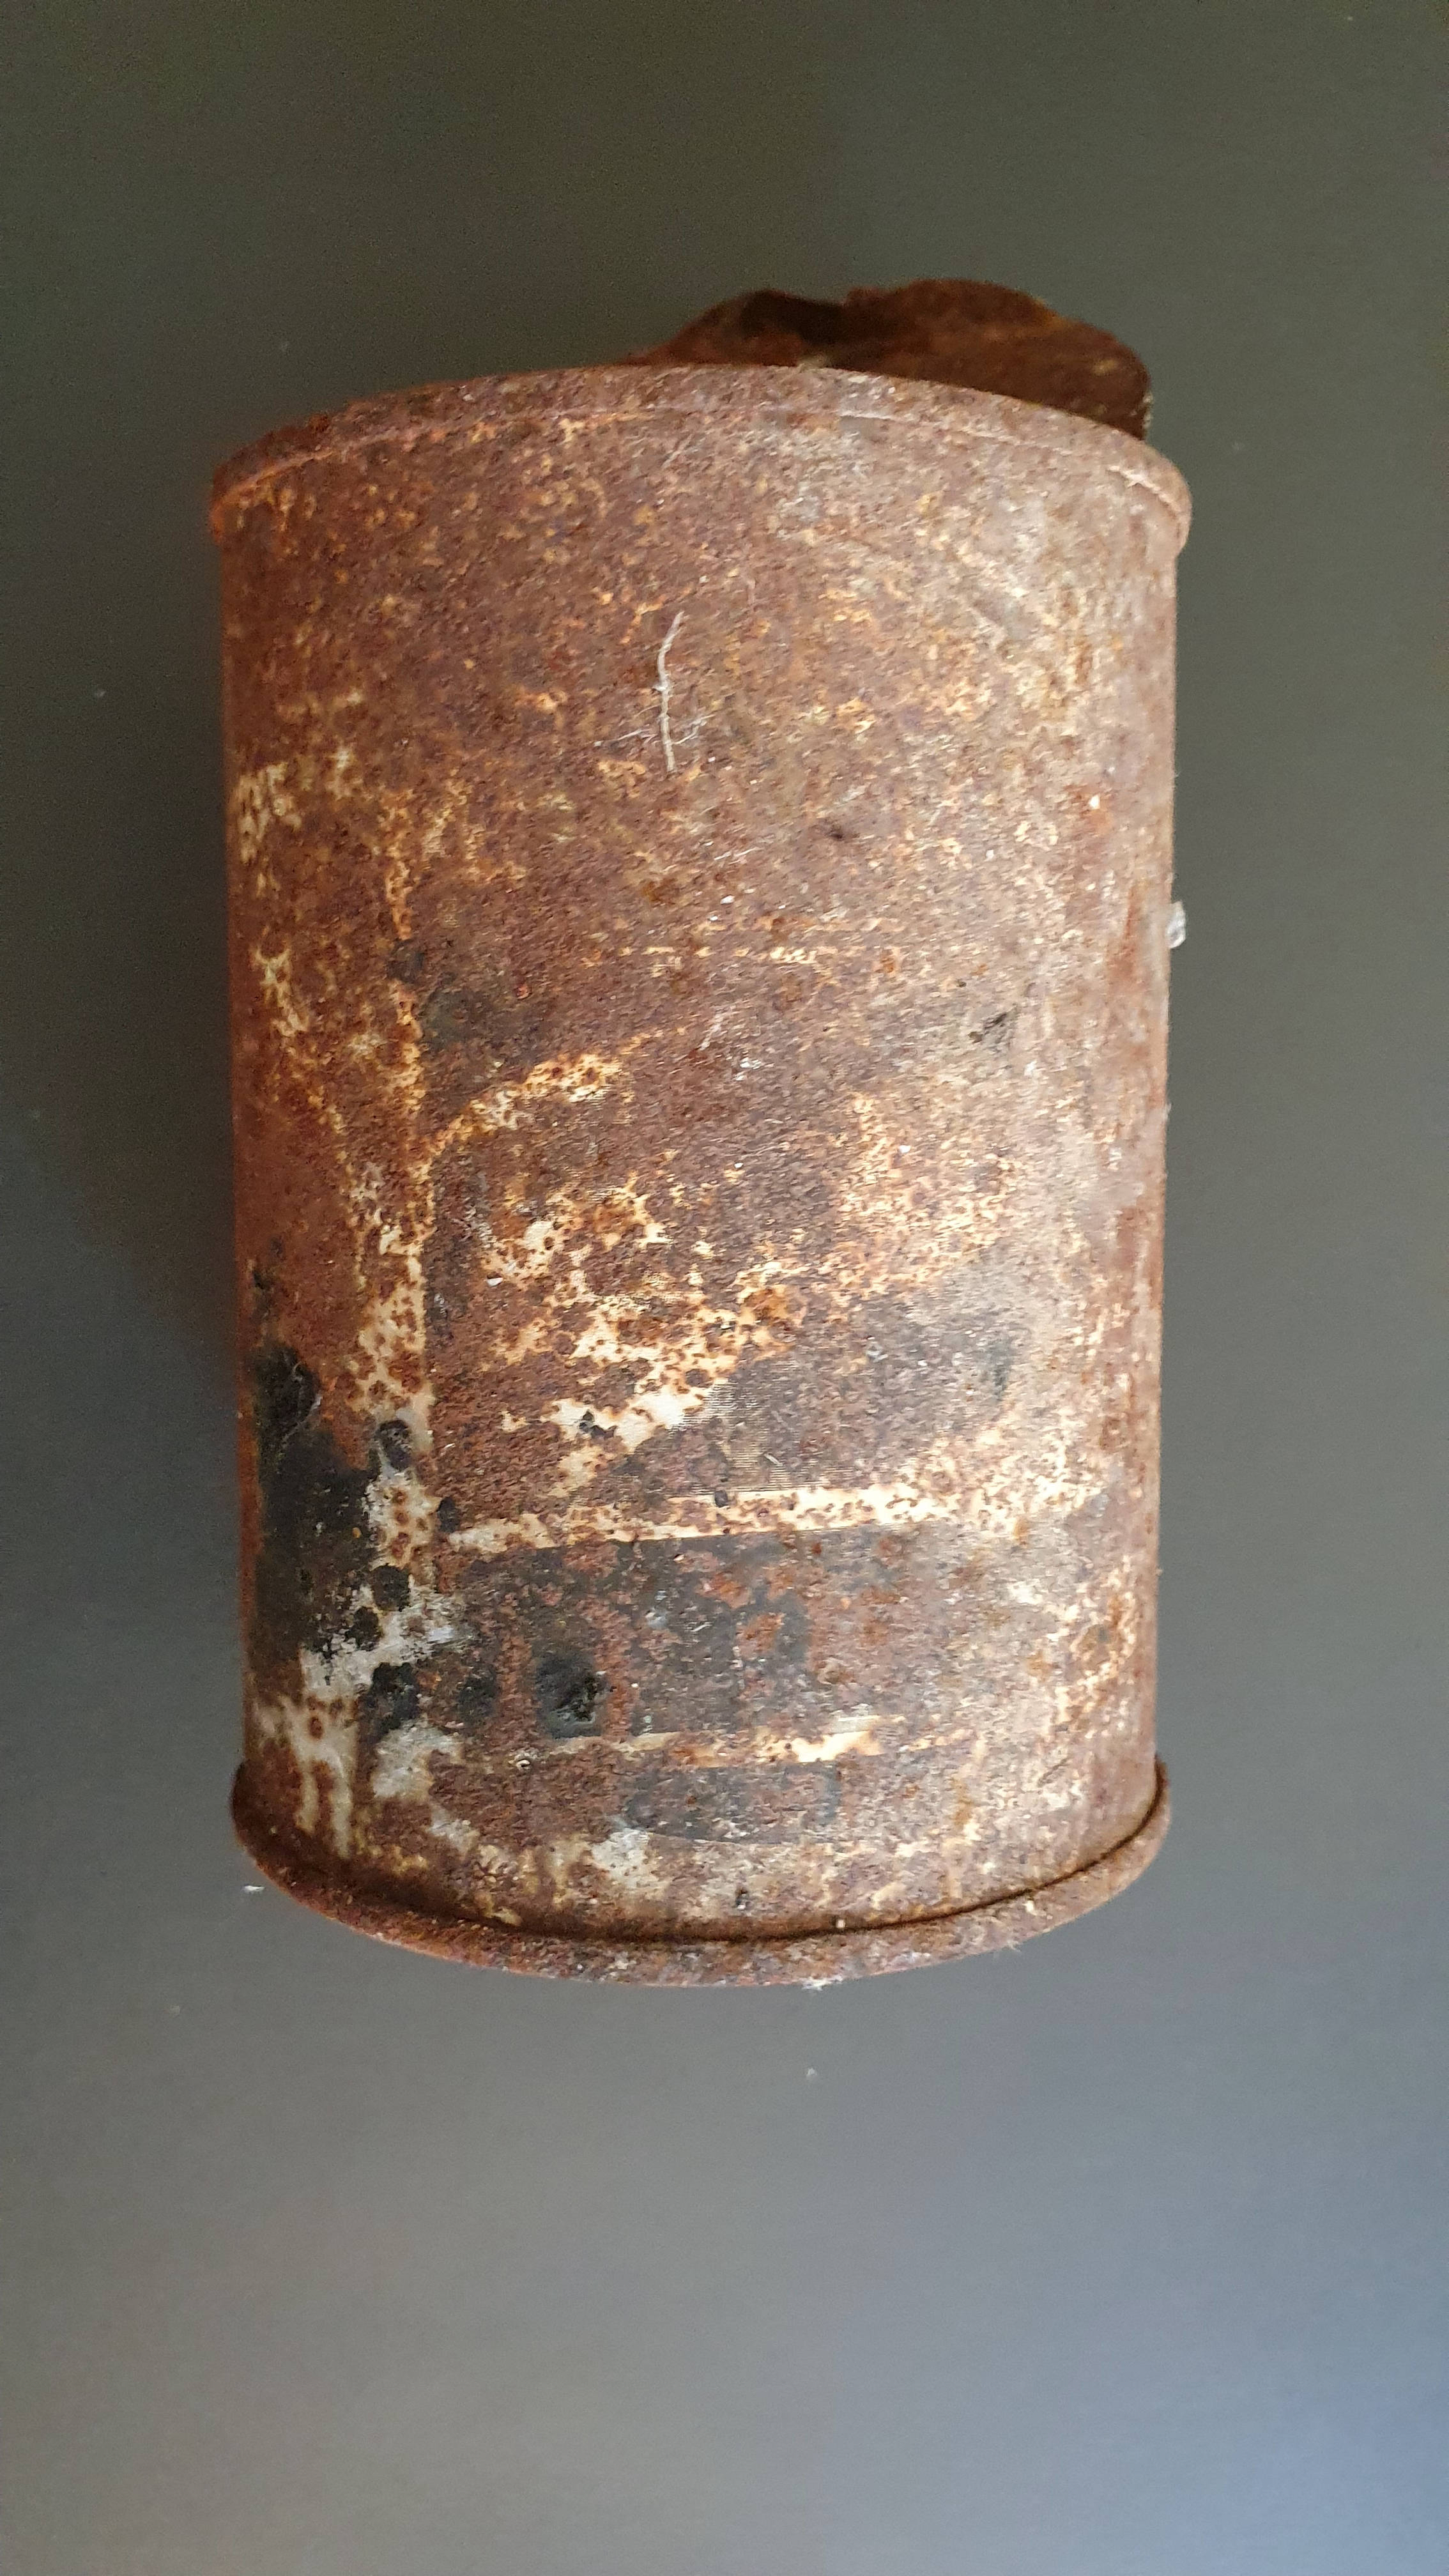metal: (157, 193, 1251, 2001)
